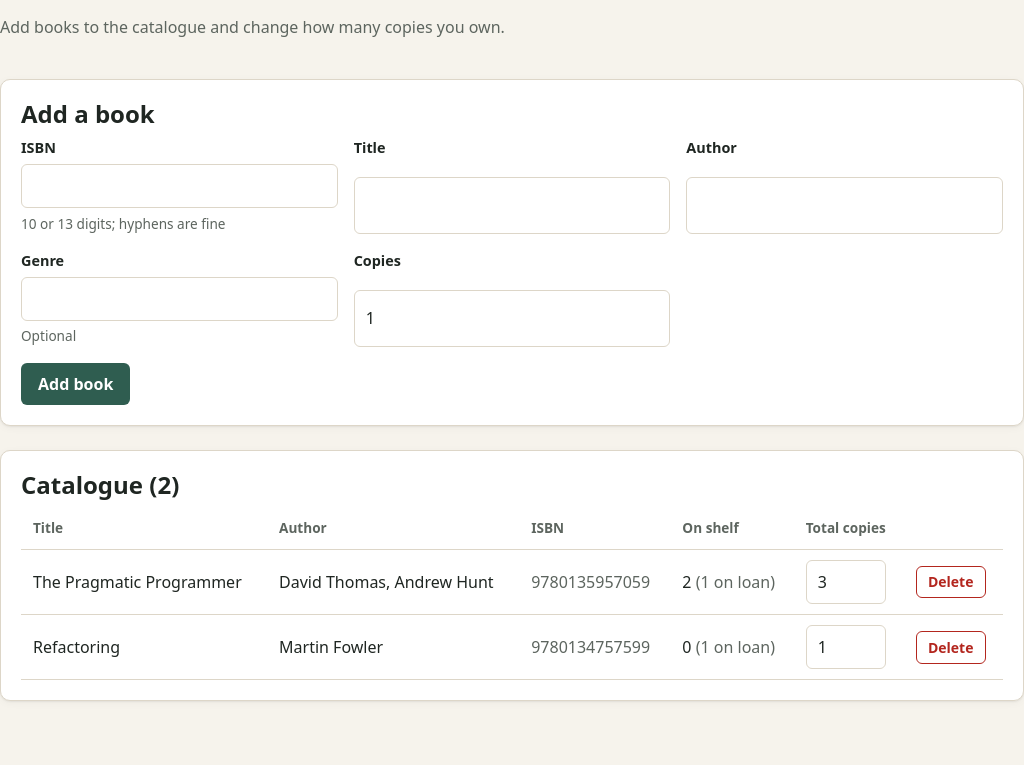
Test case: manage books › explains why a book with copies on loan cannot be deleted
(page scrolled)
Click the button with aria-label "Delete Refactoring".
click(951, 647)  # box top-left (916, 631), bottom-right (986, 664)
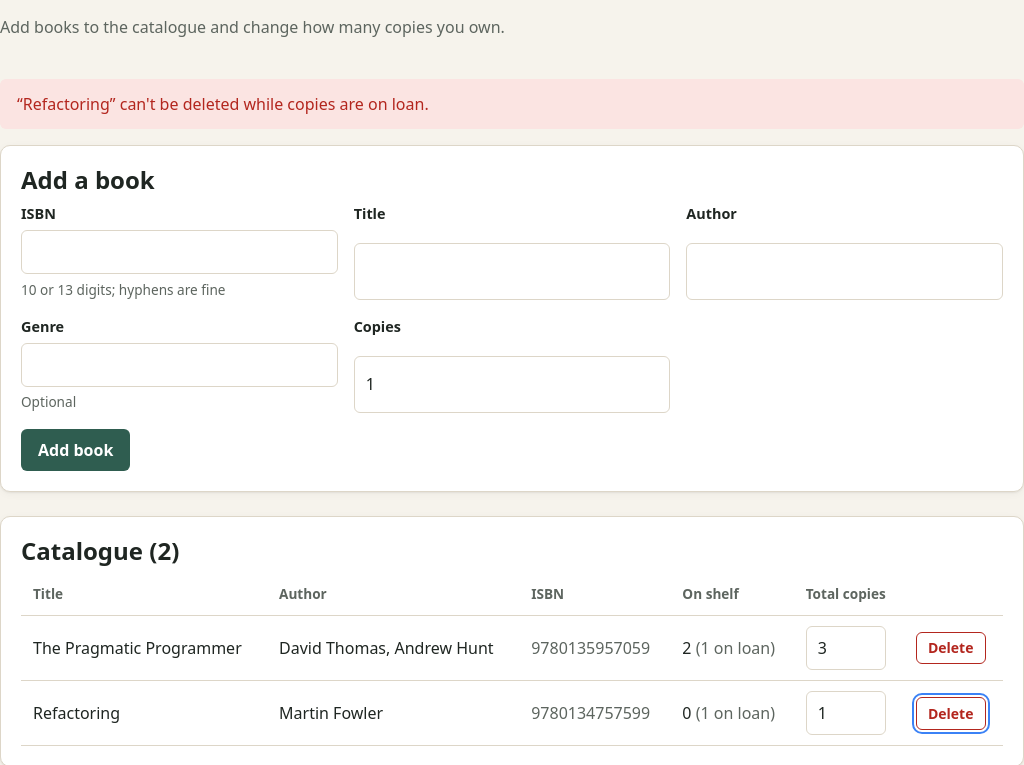
Now the message reads "“Refactoring” can't be deleted while copies are on loan.", box top-left (17, 93), bottom-right (429, 115)
